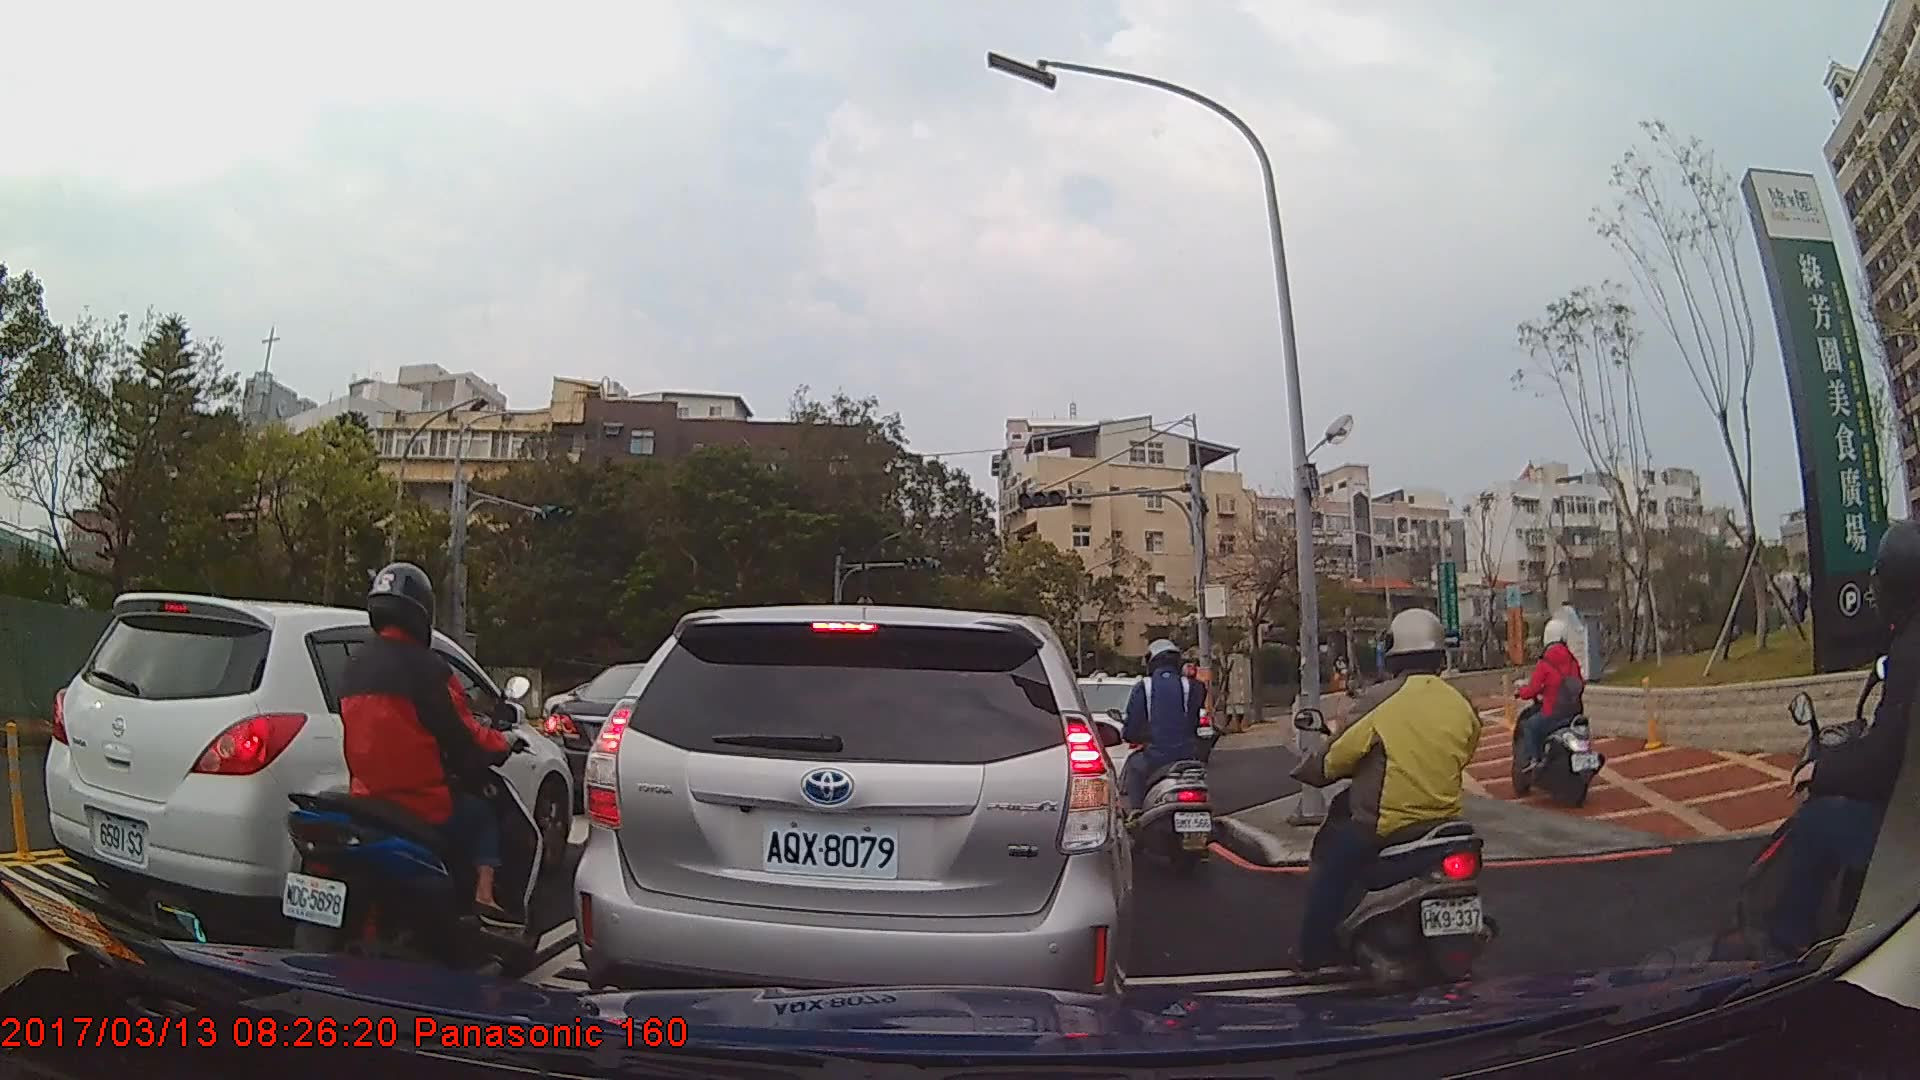pedestrian: (1778, 568, 1811, 640)
rider: (283, 556, 545, 991), (1719, 522, 1920, 1033), (1286, 606, 1499, 996), (1117, 640, 1222, 872), (1513, 616, 1601, 808)
vehicle: (572, 601, 1135, 1018), (46, 591, 574, 944)
